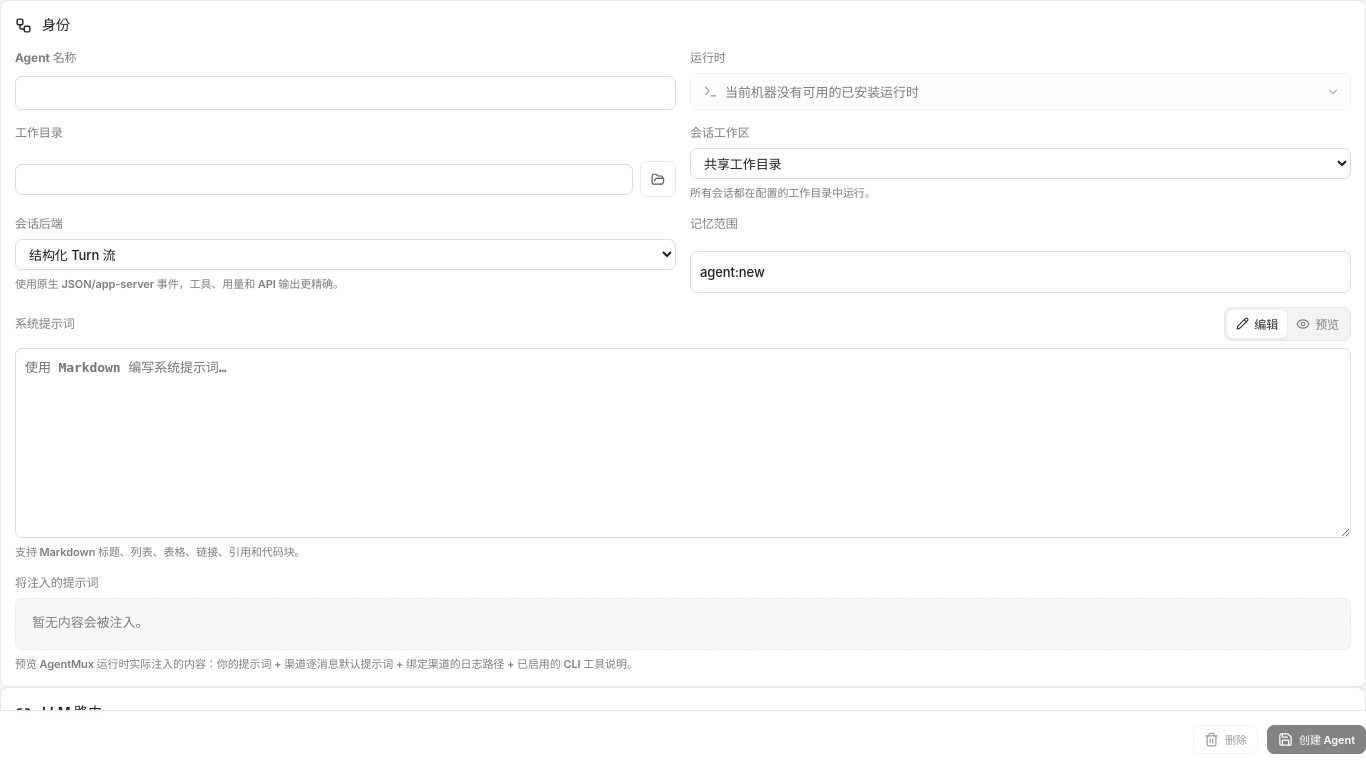
Test: uses the selected SSH host for browsing
This screenshot has width=1366, height=768.
Click the button named "选择目录".
click(658, 179)  # box [640,161,676,197]
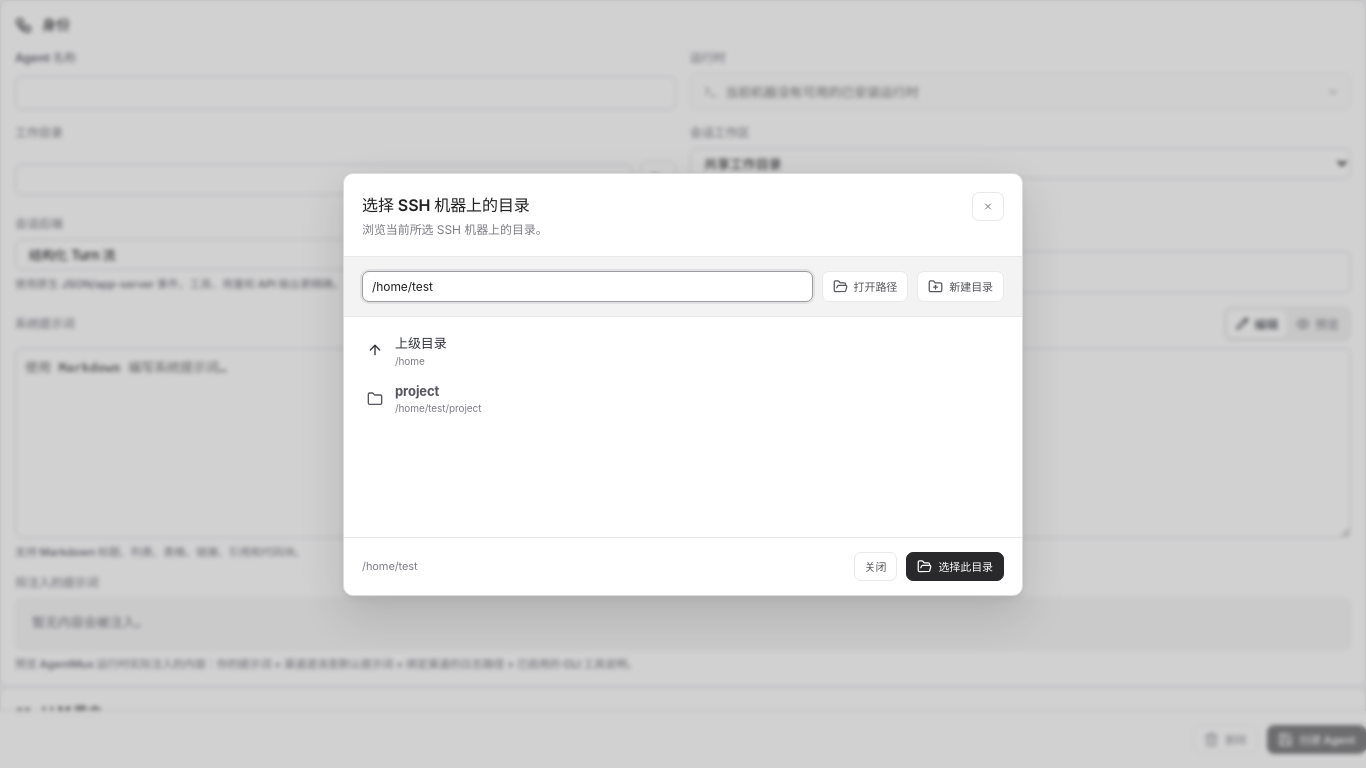
Now the dialog shows "选择 SSH 机器上的目录", box [362,194,530,214]
